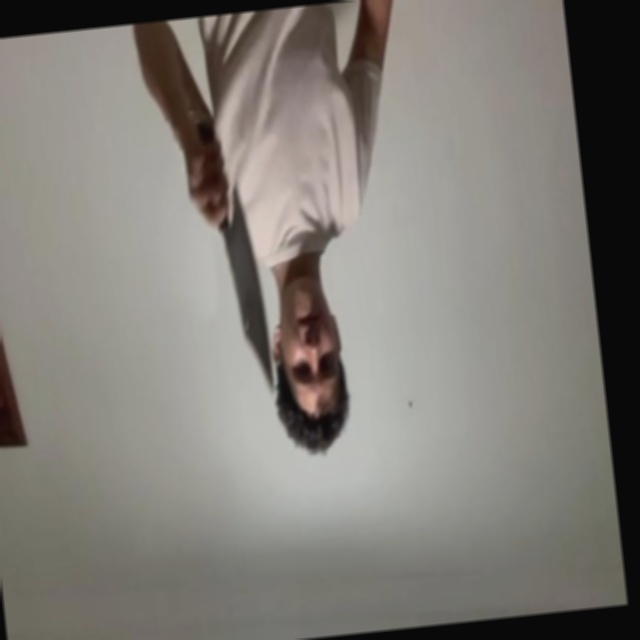Sharp-Object: (221, 200, 275, 392)
